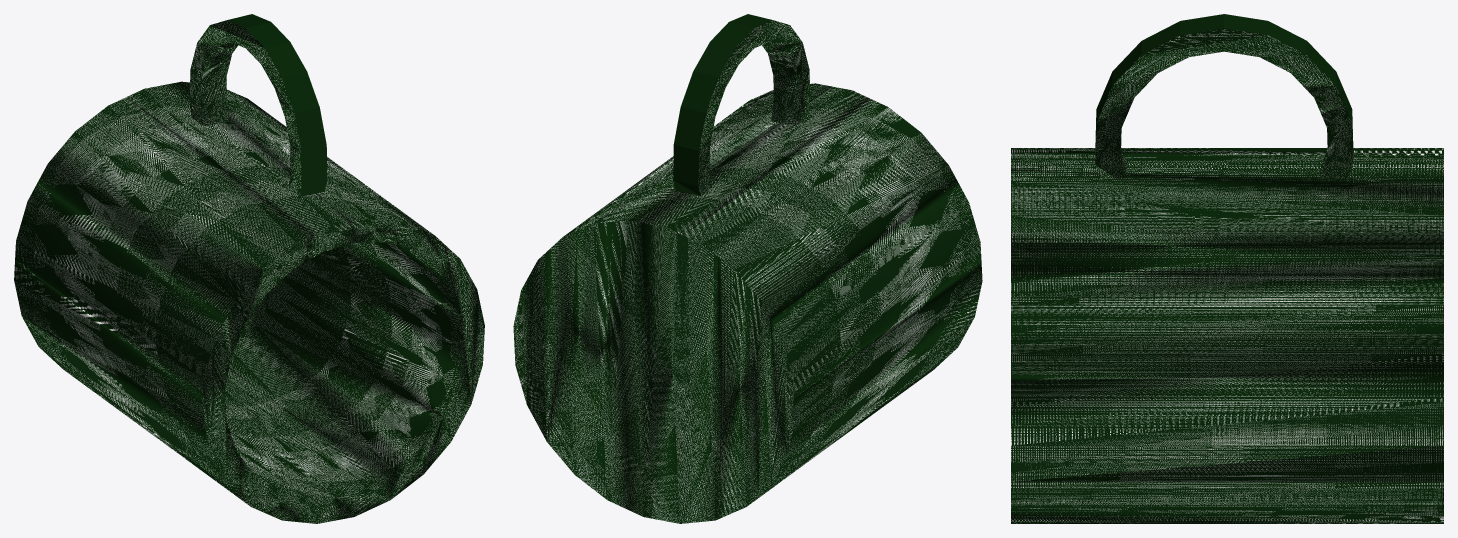
Rendered from model_align.obj.
3 views of the same model, side by side, from view 1: azimuth 30°, elevation 25°; view 2: azimuth 150°, elevation 25°; view 3: azimuth 270°, elevation 25° (orthographic). The views are drawn at different scales.
Bounding box in the file's own units: 0.0906 × 0.1299 × 0.1041.
